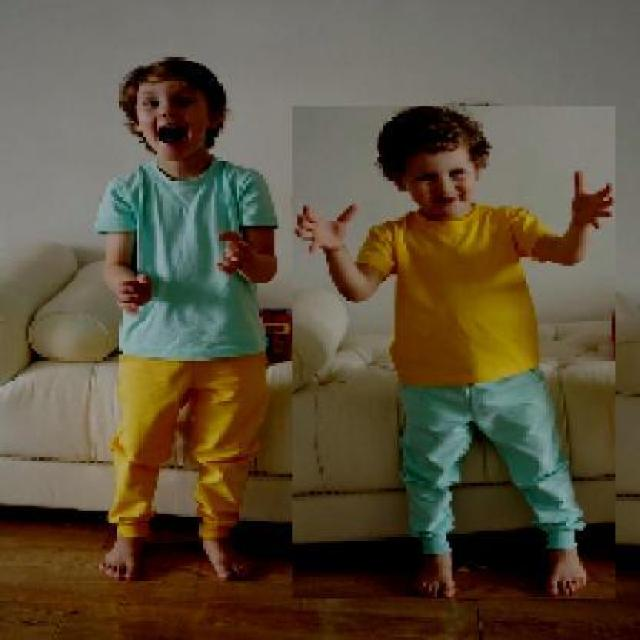child: (291, 106, 615, 600), (92, 57, 282, 583)
